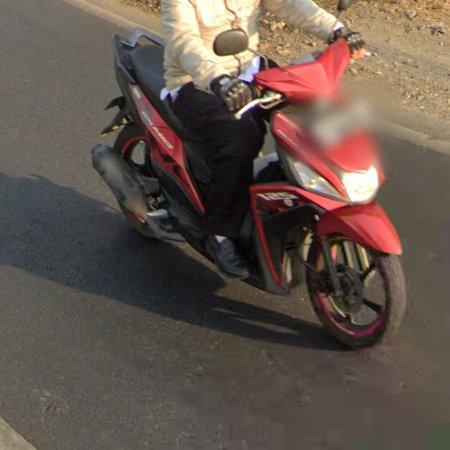motorcycles: (238, 38, 408, 348), (93, 30, 211, 260)
